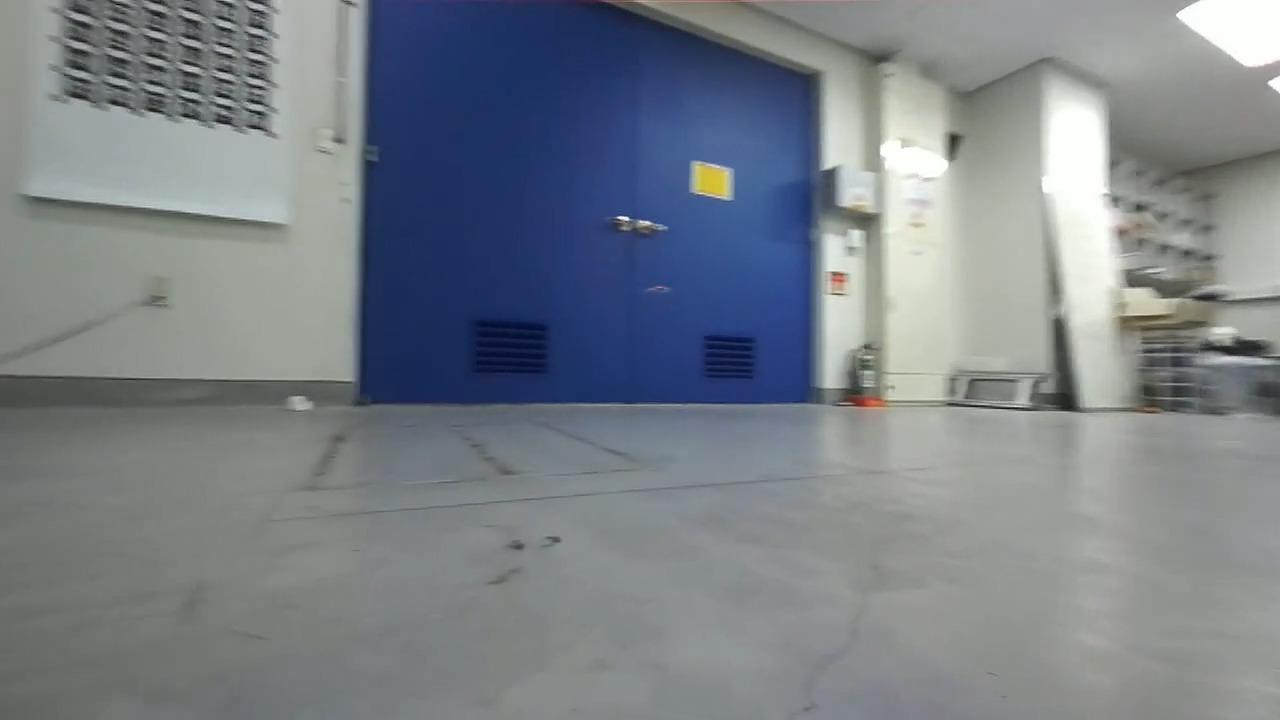crazyflie: (629, 277, 683, 301)
